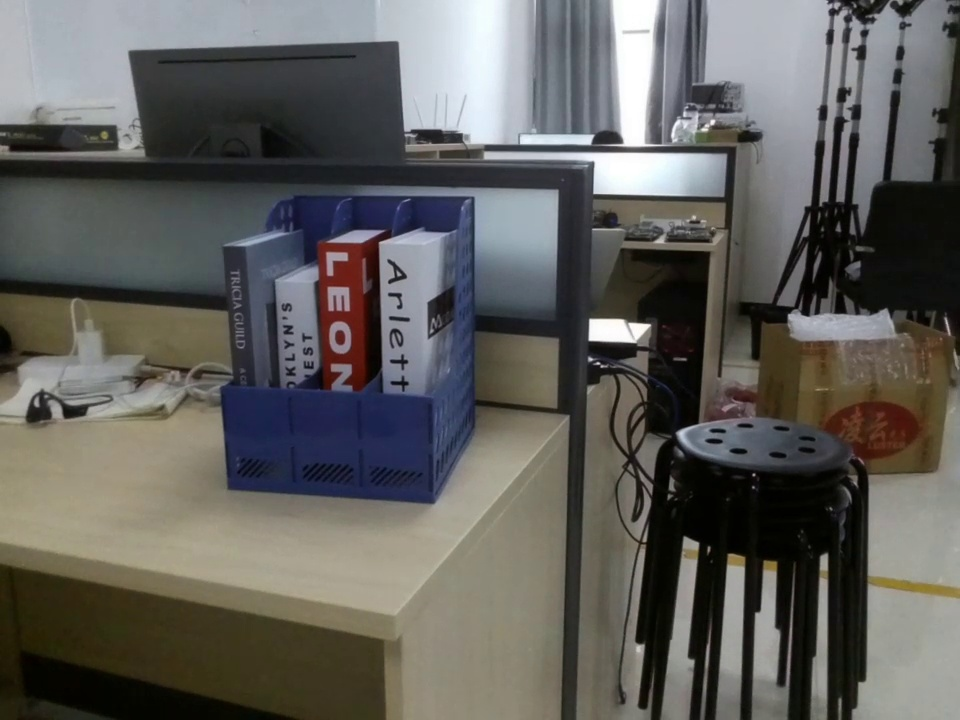files: (217, 191, 478, 504)
